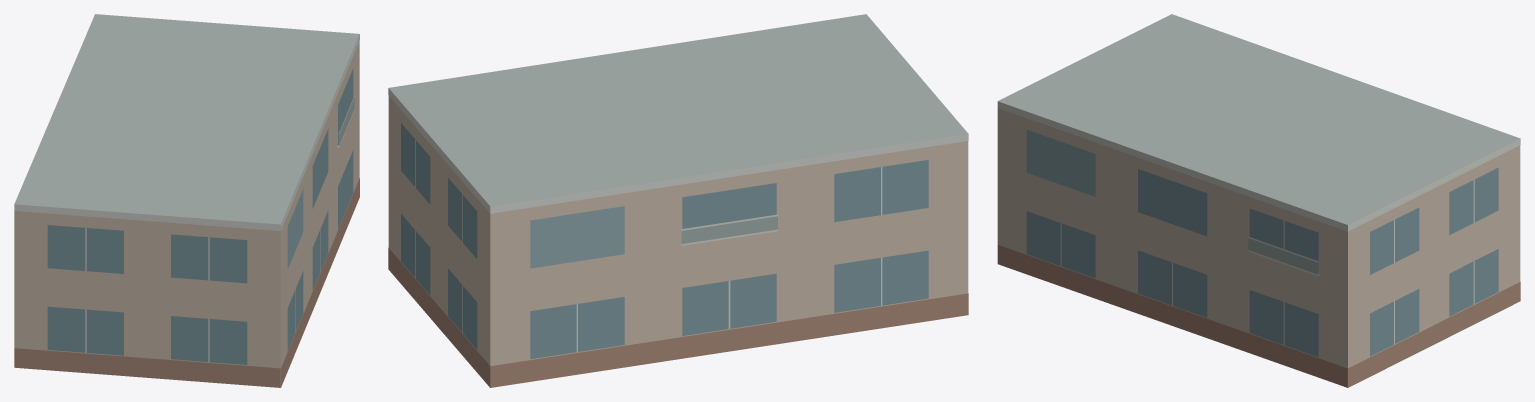
File: survey-upis-32891245.glb
3 renders of one model, left to right at view 1: azimuth 30°, elevation 25°; view 2: azimuth 150°, elevation 25°; view 3: azimuth 270°, elevation 25°, orthographic. The views are drawn at different scales.
Visible parts, largest first — view 1: survey-upis-32891245.tmp; view 2: survey-upis-32891245.tmp; view 3: survey-upis-32891245.tmp.
Part boxes in pixels (<box>): survey-upis-32891245.tmp: <box>14,14,359,387</box>; survey-upis-32891245.tmp: <box>388,14,968,387</box>; survey-upis-32891245.tmp: <box>997,14,1520,387</box>.
Bounding box in the file's own units: 16.97 × 6.1 × 17.76.
